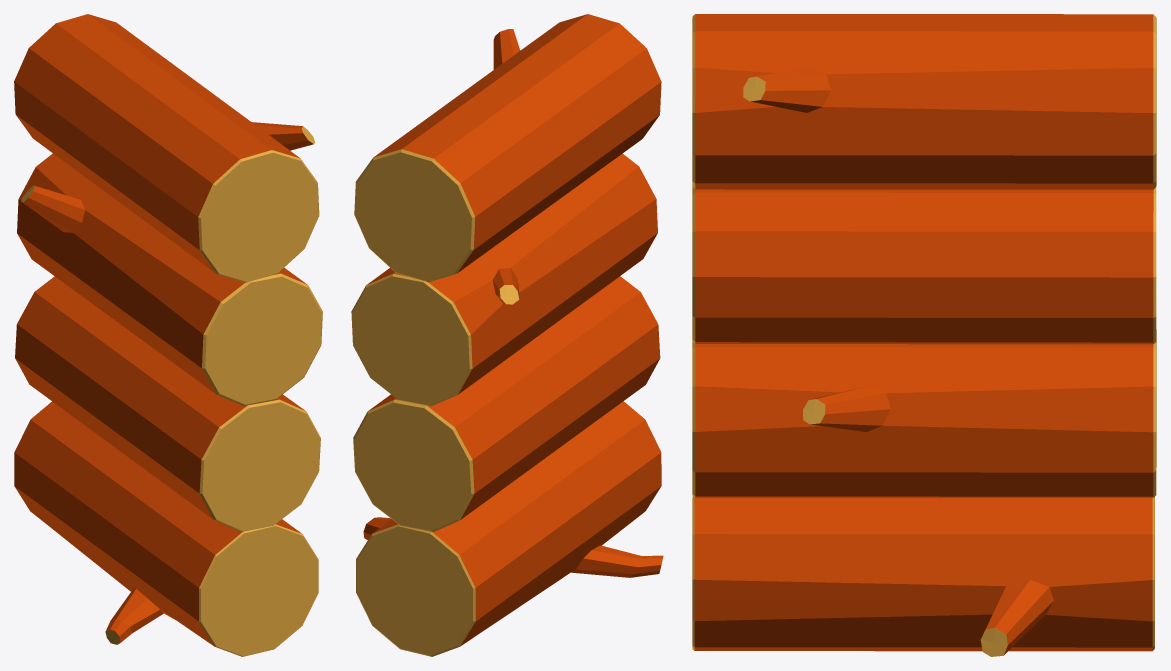
Rendered from stamm4.fbx.
The picture shows the model from 3 angles, left to right: view 1: azimuth 30°, elevation 25°; view 2: azimuth 150°, elevation 25°; view 3: azimuth 270°, elevation 25°; orthographic projection. The views are drawn at different scales.
Parts seen in each view (by area): view 1: stamm4; view 2: stamm4; view 3: stamm4.
Part boxes in pixels (<box>): stamm4: <box>14,14,322,656</box>; stamm4: <box>351,14,663,656</box>; stamm4: <box>692,14,1156,656</box>.
Bounding box in the file's own units: 338 × 227 × 497.
